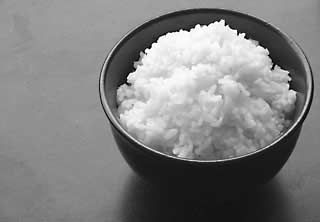Nasi Putih: (105, 26, 298, 163)
